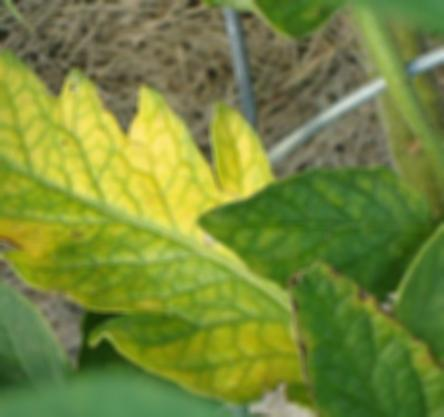Tomato mold leaf: (0, 0, 315, 409), (199, 160, 444, 295), (279, 256, 444, 417)
